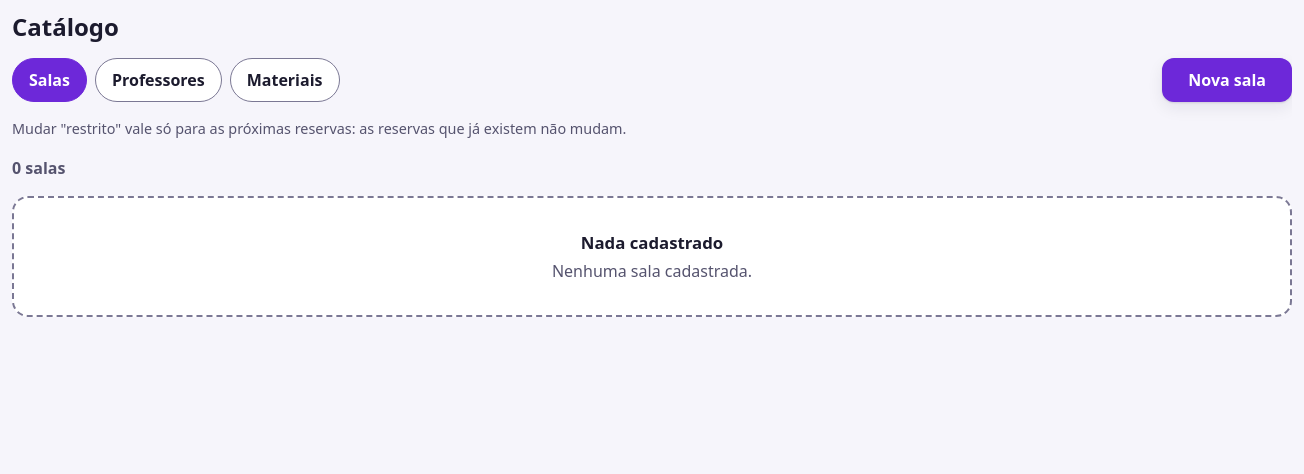
Test case: PaginaDoCatalogo: abas e lista › professor: competências e o vínculo com usuário, sem mostrar número
Click the tab "Professores". click: [158, 80]
box: [95,58,222,102]
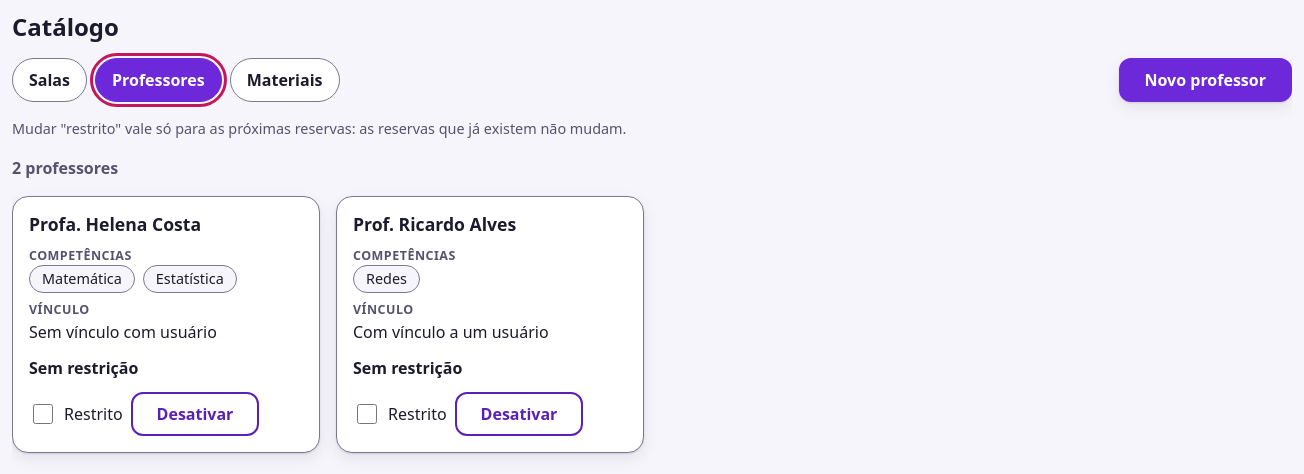
expect the list item "Matemática" is shown: met, box [29,265,135,293]
expect the list item "Estatística" is shown: met, box [143,265,237,293]
expect the text "Sem vínculo com usuário" is shown: met, box [29,321,217,343]
